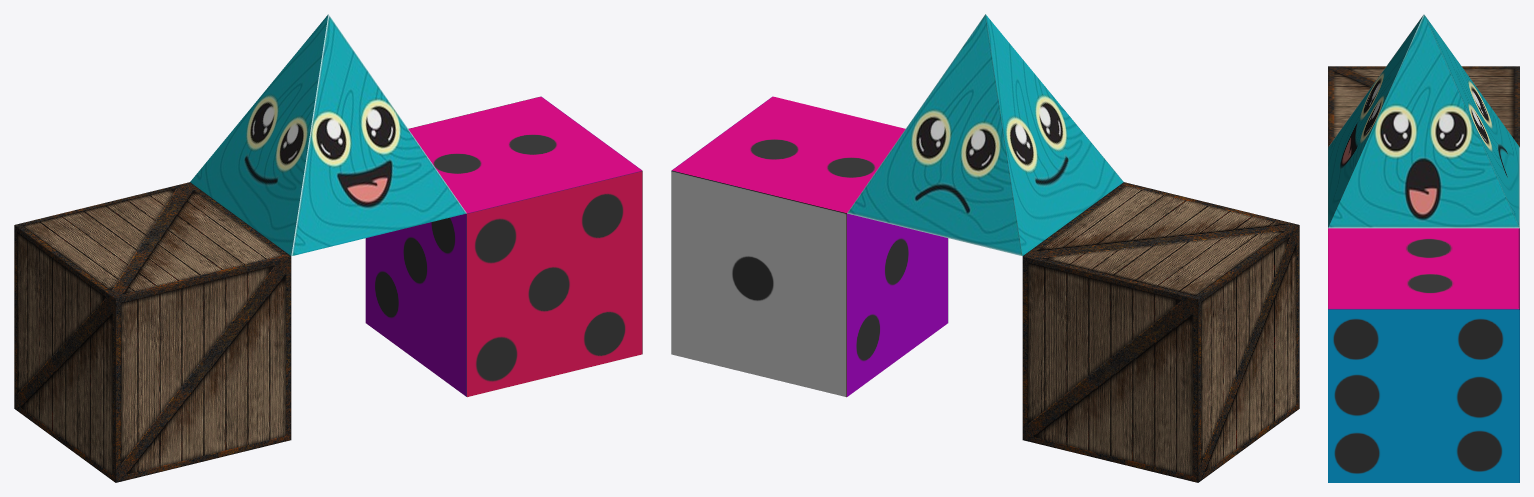
Rendered from Primitivas.obj.
3 views of the same model, side by side, from view 1: azimuth 30°, elevation 25°; view 2: azimuth 150°, elevation 25°; view 3: azimuth 270°, elevation 25° (orthographic). The views are drawn at different scales.
Parts seen in each view (by area): view 1: Box002, Box001, Pyramid001; view 2: Box002, Box001, Pyramid001; view 3: Box001, Pyramid001, Box002.
Part boxes in pixels (x1,y1,x2,y2): Box002: (14, 182, 291, 482); Box001: (365, 96, 642, 397); Pyramid001: (190, 14, 466, 256); Box002: (1022, 182, 1299, 482); Box001: (671, 96, 948, 397); Pyramid001: (847, 14, 1123, 256); Box001: (1328, 228, 1519, 482); Pyramid001: (1328, 14, 1519, 228); Box002: (1328, 66, 1519, 146).
Bounding box in the file's own units: 15 × 10 × 5.
3 materials, 3 textured.
